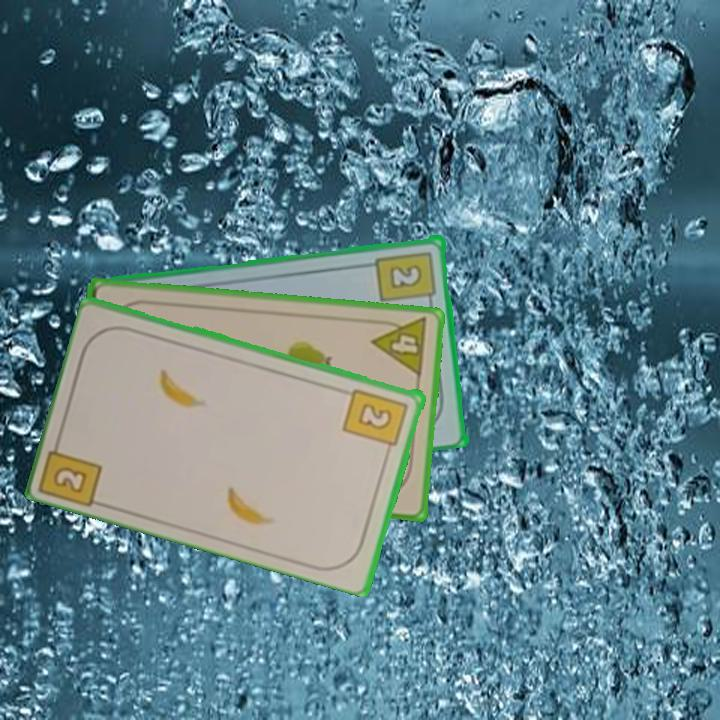2b: (39, 430, 106, 508), (340, 384, 411, 457), (373, 247, 439, 309)
4p: (369, 314, 431, 380)
